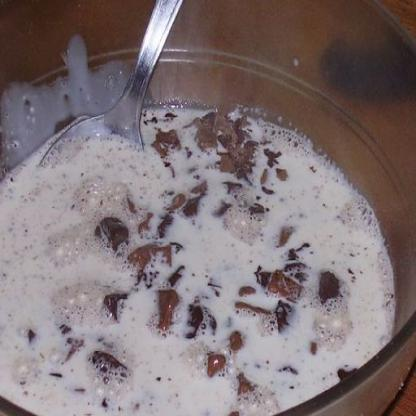knife: (315, 37, 415, 115)
